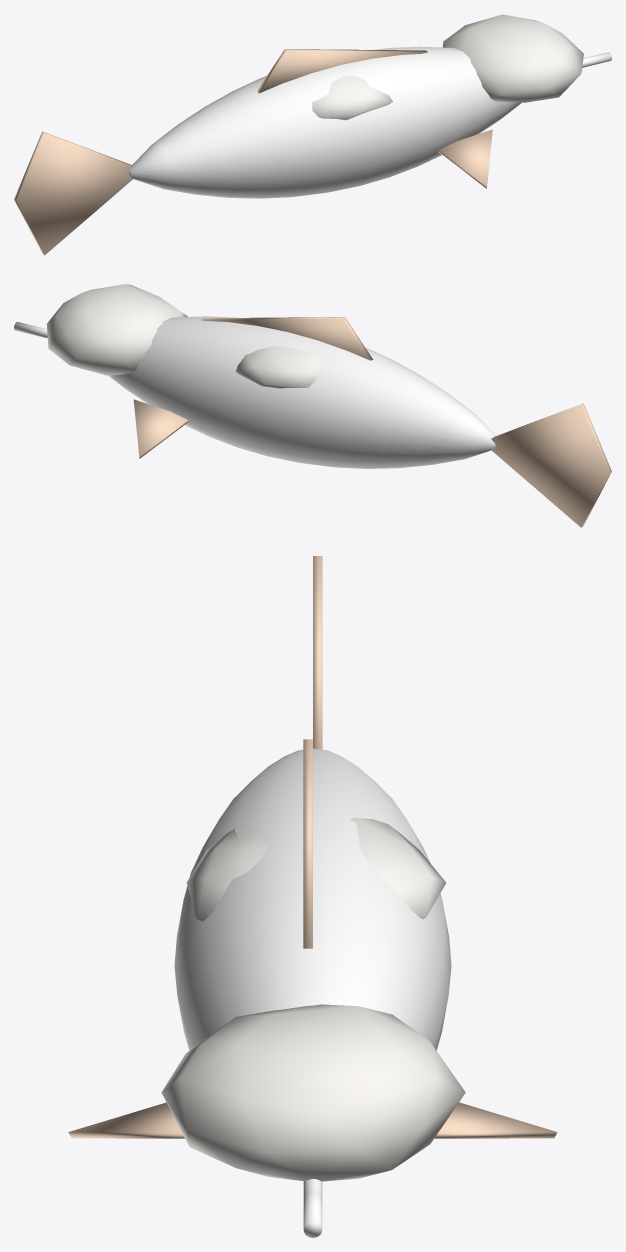
Rendered from fish-koi.glb.
3 views of the same model, one above another, from view 1: azimuth 30°, elevation 25°; view 2: azimuth 150°, elevation 25°; view 3: azimuth 270°, elevation 25° (orthographic). The views are drawn at different scales.
Visible parts, largest first — view 1: Koi body, White head patch, Tail fin, Dorsal fin, White saddle patch, Pectoral fin; view 2: Koi body, White head patch, Tail fin, White saddle patch, Dorsal fin, Pectoral fin.001; view 3: Koi body, White head patch, White saddle patch, Pectoral fin.001, Pectoral fin, Dorsal fin, Tail fin.
Boxes of the visible parts, x1=… form: Koi body: x1=129, y1=46, x2=611, y2=198; White head patch: x1=442, y1=14, x2=583, y2=102; Tail fin: x1=14, y1=131, x2=132, y2=255; Dorsal fin: x1=257, y1=49, x2=427, y2=93; White saddle patch: x1=312, y1=75, x2=392, y2=120; Pectoral fin: x1=438, y1=129, x2=492, y2=188; Koi body: x1=14, y1=316, x2=495, y2=468; White head patch: x1=46, y1=284, x2=187, y2=375; Tail fin: x1=491, y1=403, x2=611, y2=527; White saddle patch: x1=235, y1=346, x2=320, y2=388; Dorsal fin: x1=201, y1=317, x2=373, y2=360; Pectoral fin.001: x1=133, y1=399, x2=188, y2=458; Koi body: x1=174, y1=748, x2=451, y2=1237; White head patch: x1=161, y1=1004, x2=465, y2=1181; White saddle patch: x1=186, y1=817, x2=446, y2=921; Pectoral fin.001: x1=434, y1=1102, x2=557, y2=1138; Pectoral fin: x1=68, y1=1102, x2=184, y2=1138; Dorsal fin: x1=303, y1=739, x2=312, y2=948; Tail fin: x1=313, y1=556, x2=322, y2=749.
Bounding box in the file's own units: 0.42 × 0.1 × 0.15.
